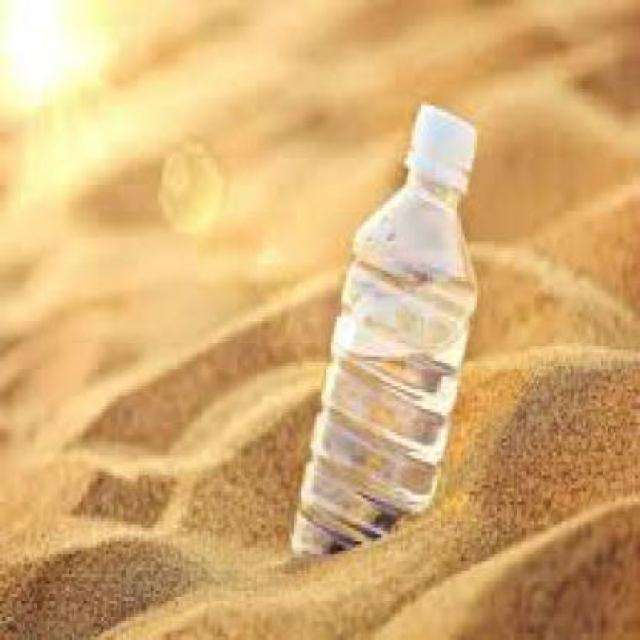Drinking: (321, 92, 479, 551)
